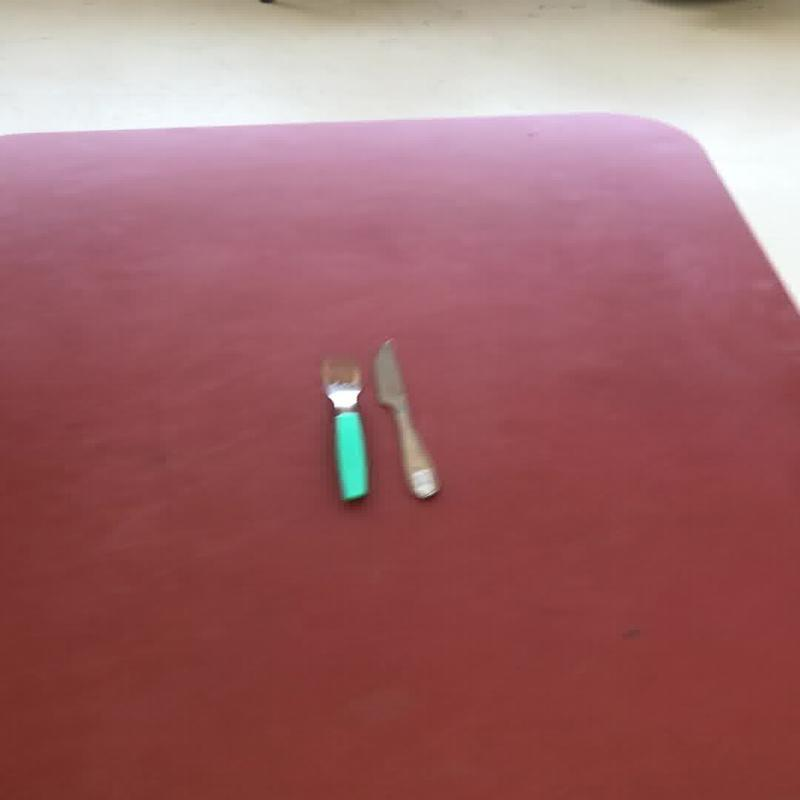fork: (318, 355, 369, 501)
knife: (371, 337, 439, 499)
